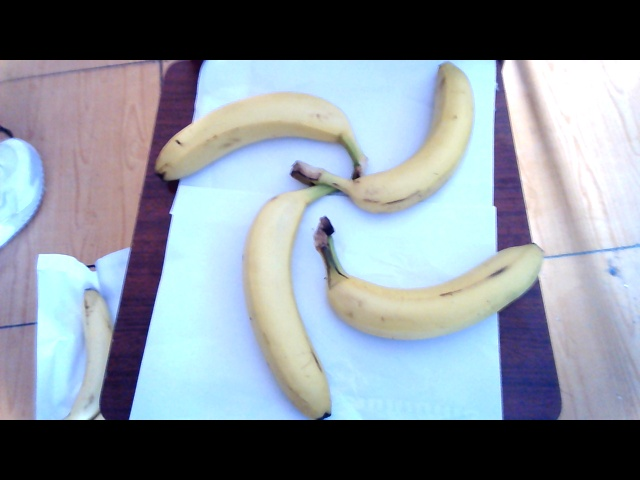banana: (321, 215, 543, 340), (231, 180, 336, 421), (365, 66, 487, 230), (164, 90, 373, 163)
